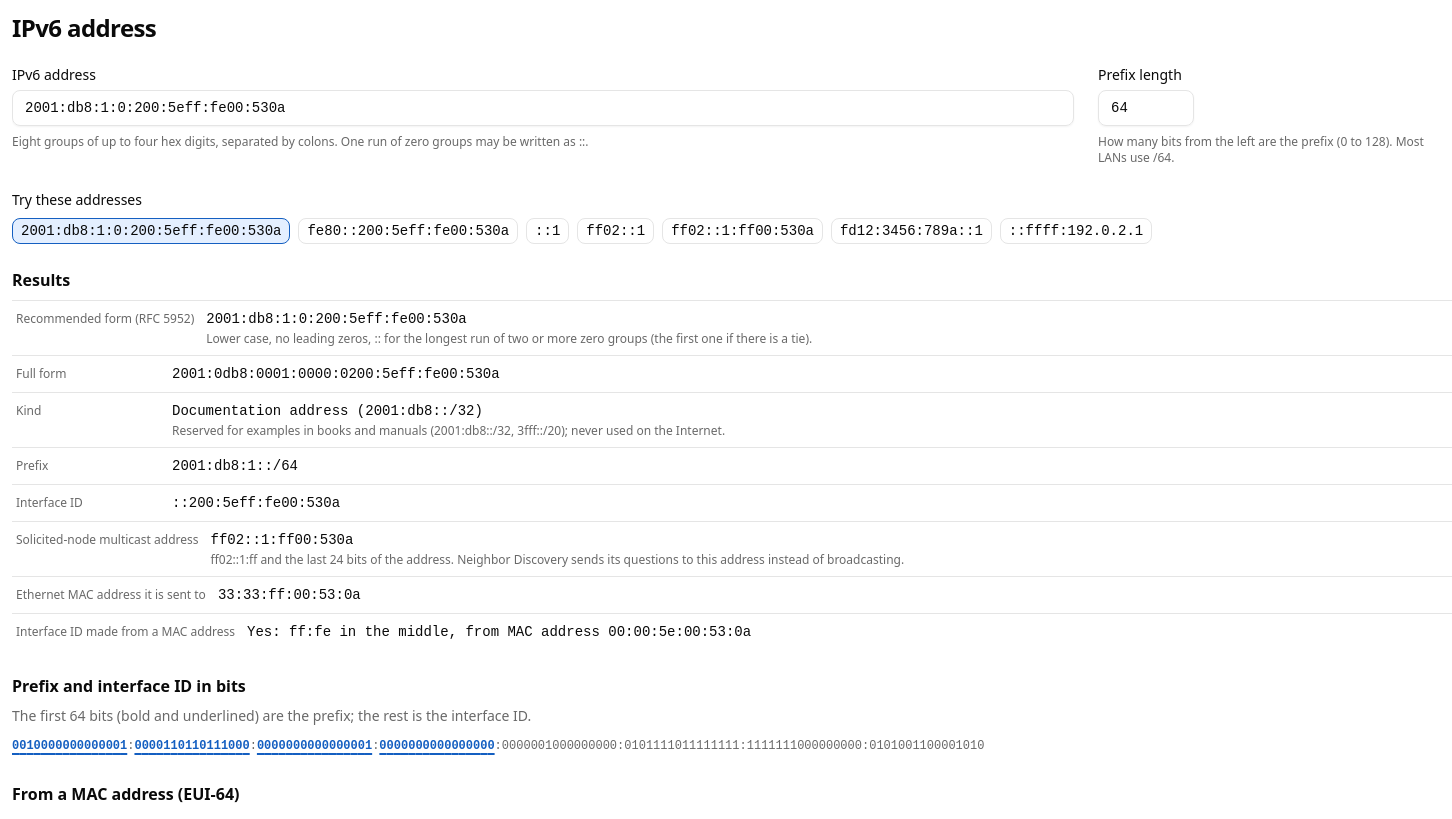
Test case: Ipv6Address › 入力を正規の表記で読み、URL に書く。不正な入力はエラーを出し、最後の正しい値で計算する
Replace the text in the field labelled "IPv6 address" with "FE80:0000::0001" at (543, 108), box [12, 90, 1074, 126]
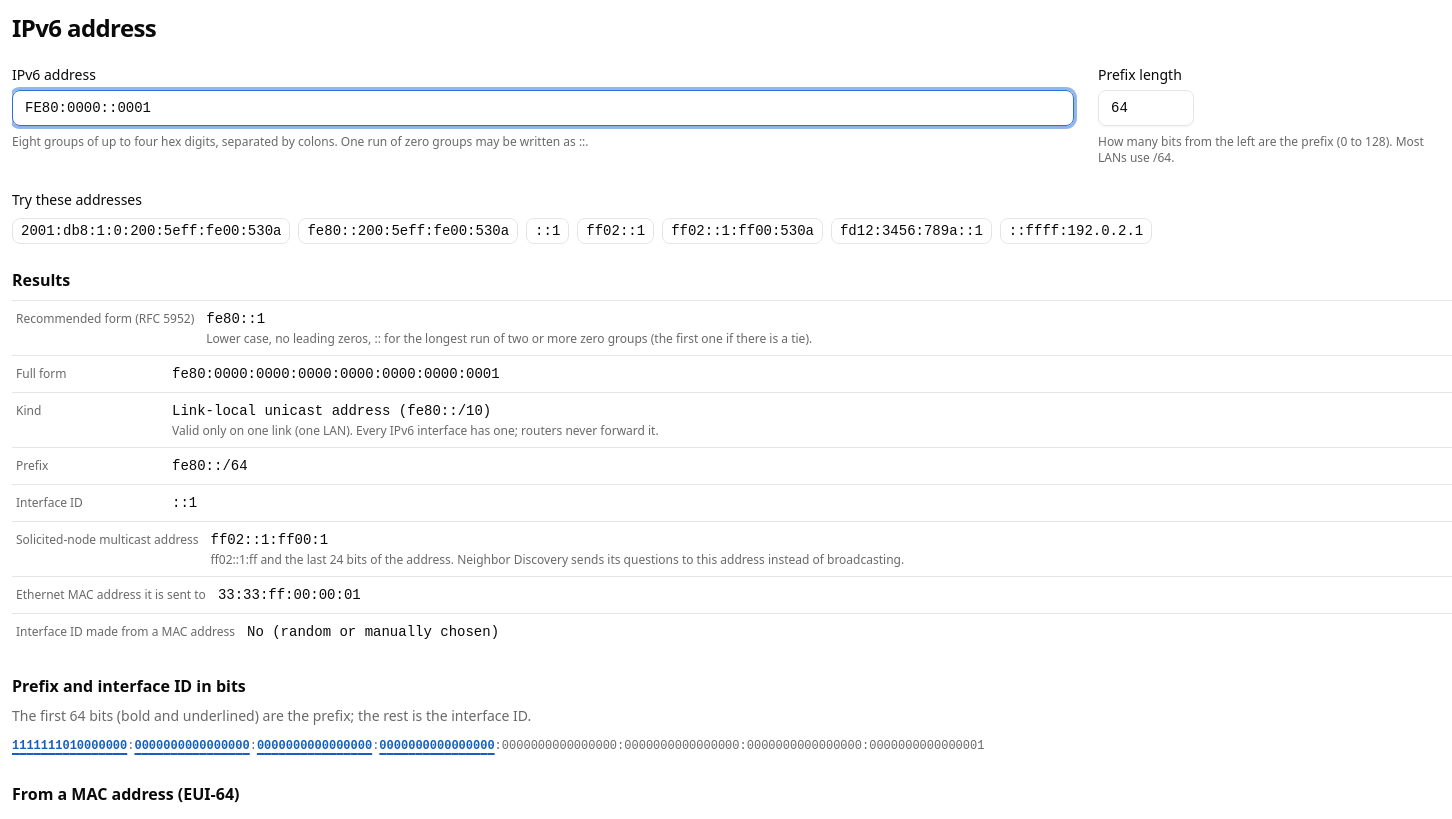
Expected: the text "fe80::1" is shown, [206, 311, 265, 327]
Expected: the text "Link-local unicast address (fe80::/10)" is shown, [172, 403, 491, 419]
Type "::" into the field labelled "IPv6 address".
click(543, 108); type("::")  # box [12, 90, 1074, 126]
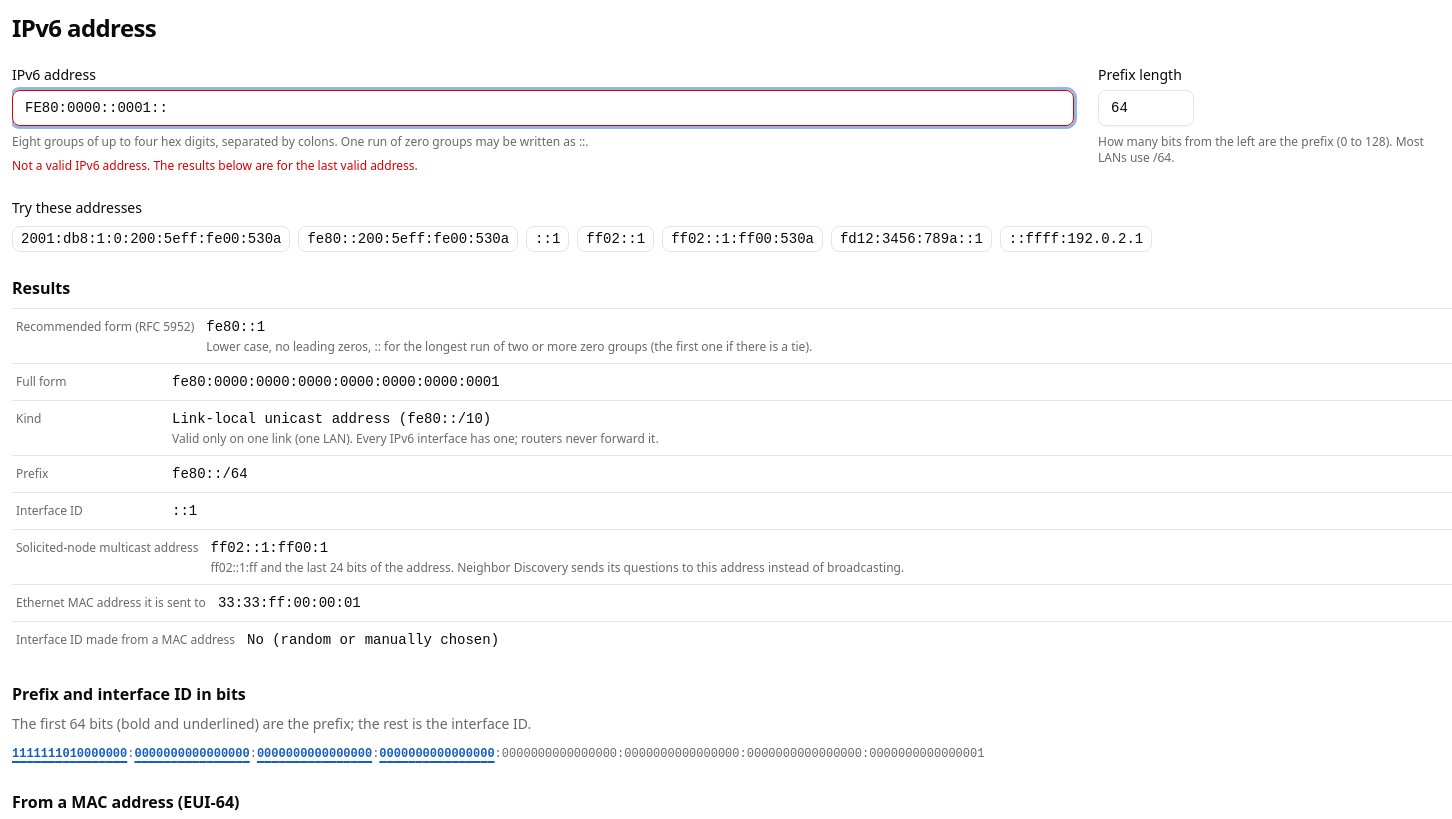
Expected: the text "fe80::1" is shown, [206, 319, 265, 335]
Expected: the text "Not a valid IPv6 address" is shown, [12, 157, 418, 174]
